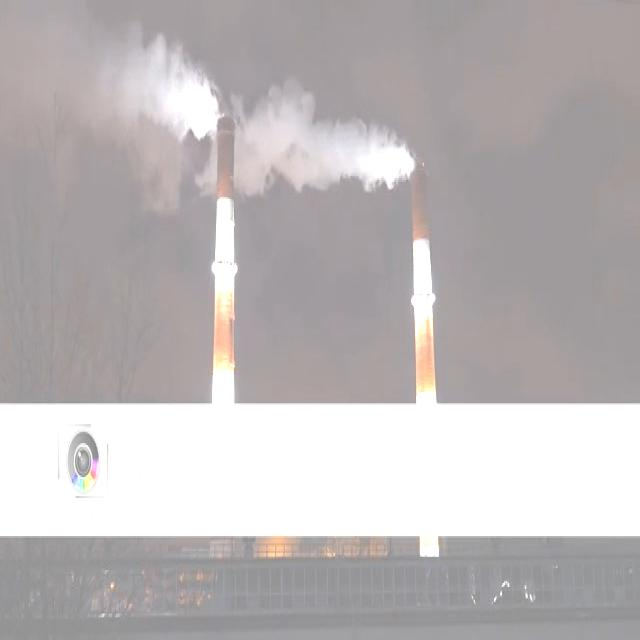smoke: (0, 0, 221, 210), (236, 83, 420, 191)
